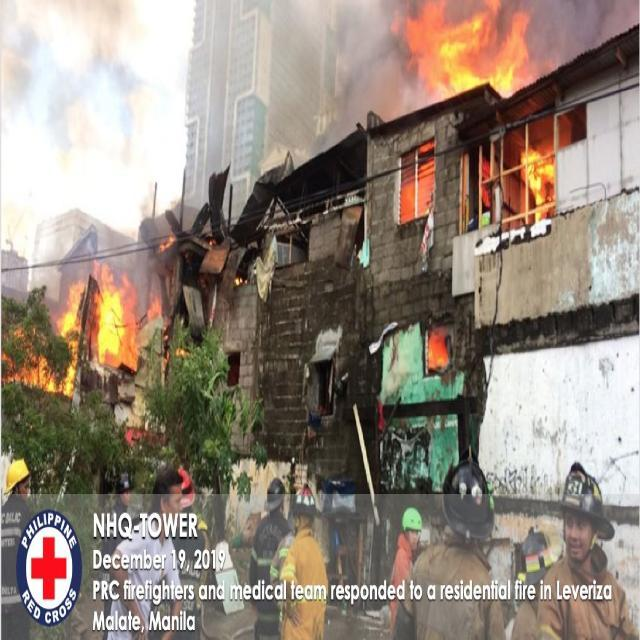Fire: (402, 0, 526, 105), (60, 273, 136, 398), (514, 132, 560, 224), (396, 134, 441, 218), (16, 355, 74, 400), (422, 314, 454, 380)
